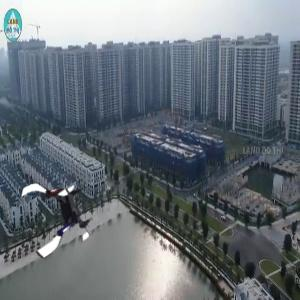drone: (14, 173, 98, 257)
